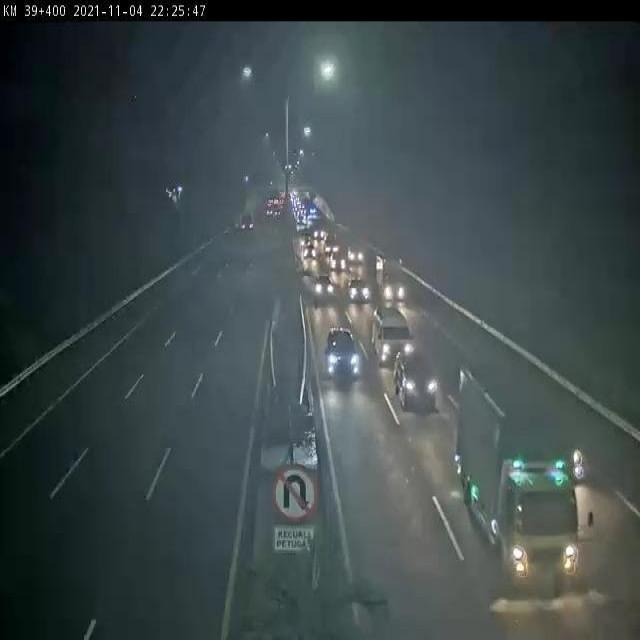bus-s-: (370, 302, 414, 370)
car: (397, 348, 443, 411), (322, 326, 363, 382), (347, 272, 371, 303), (312, 271, 337, 300)
truck-l-: (452, 354, 587, 586)
truck-s-: (373, 252, 406, 304)
